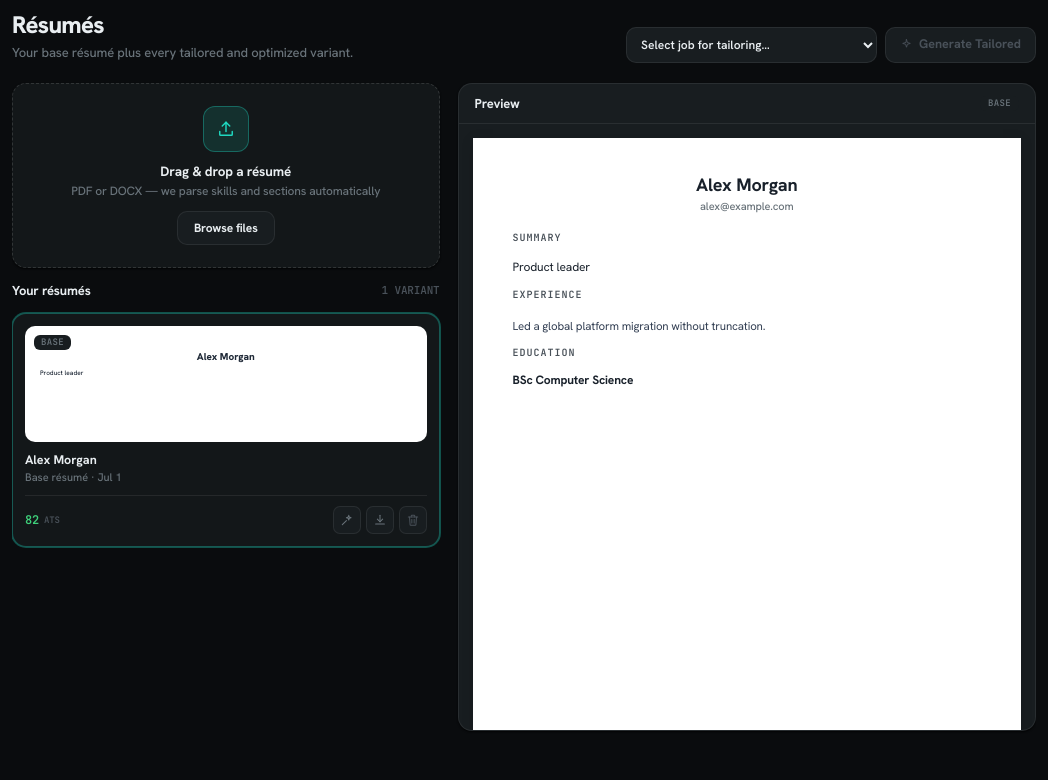
it: ResumesPage › archives a résumé through the safe archive endpoint
Click the button named "archive résumé": [412, 520] box 398,506 -> 426,534
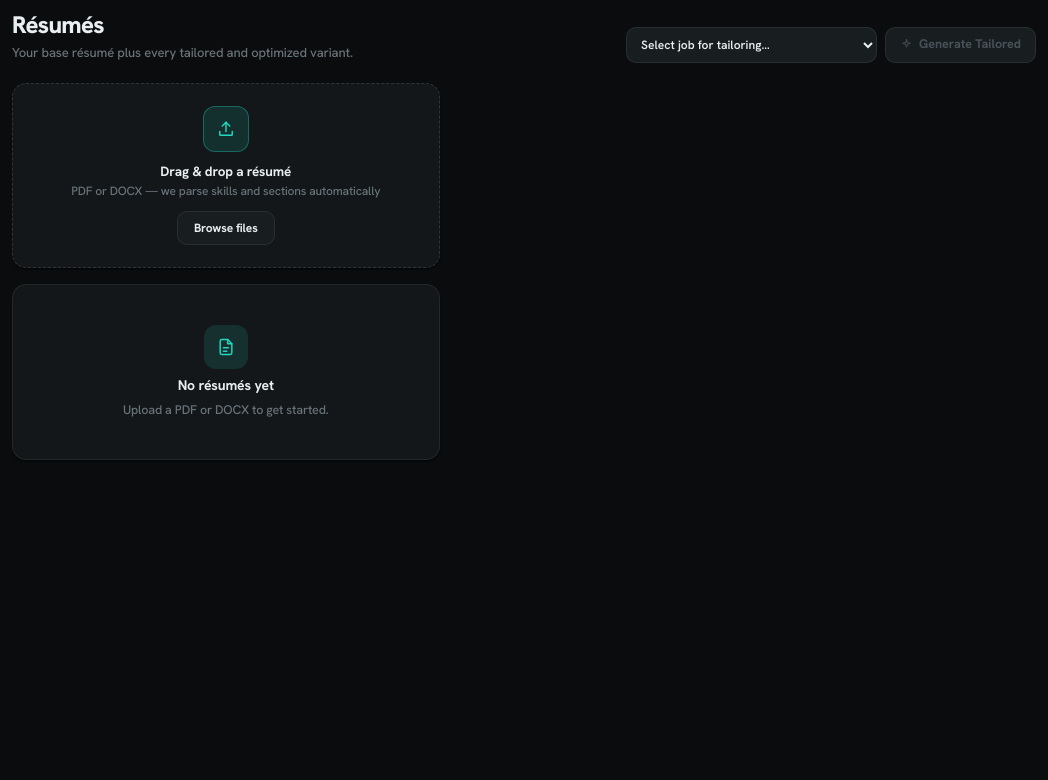
Result: the text "No résumés yet" is shown at 178,377 -> 274,393
